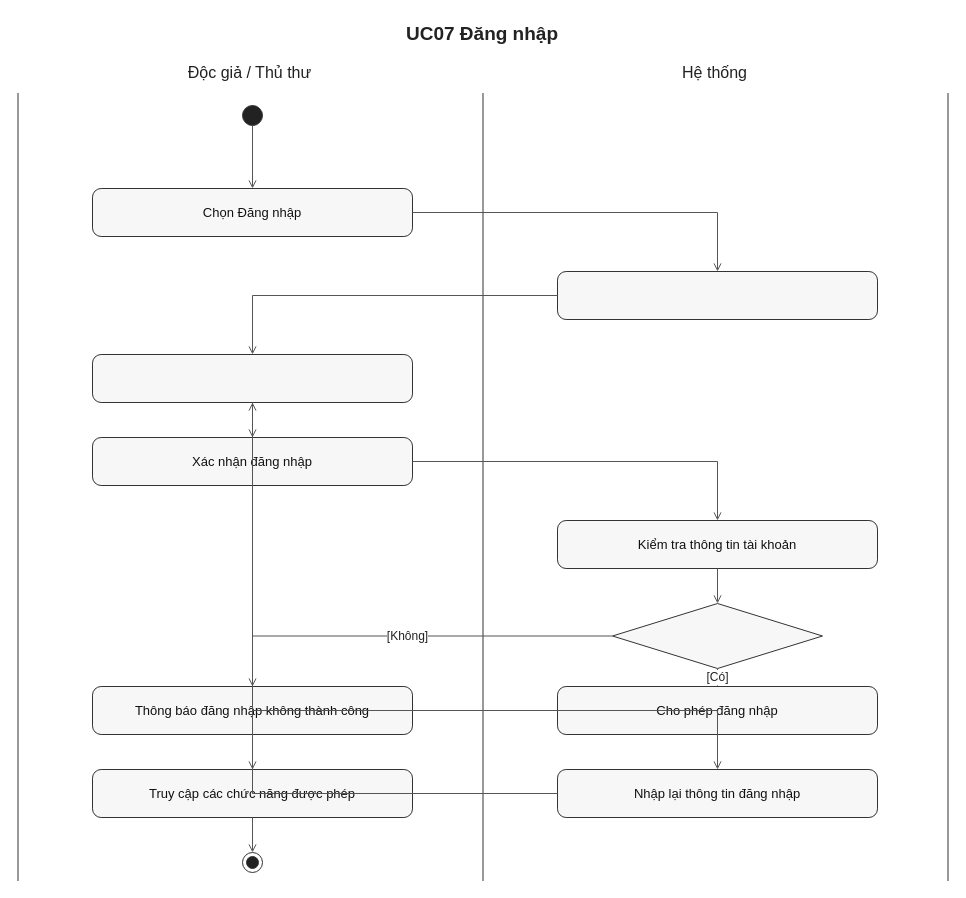
This 966x898 diagram has some shape labels left out. Each missing label, with the centre of its shape:
Hiển thị form đăng nhập: (717,295)
Nhập thông tin tài khoản: (252,378)
Thông tin chính xác?: (717,635)
